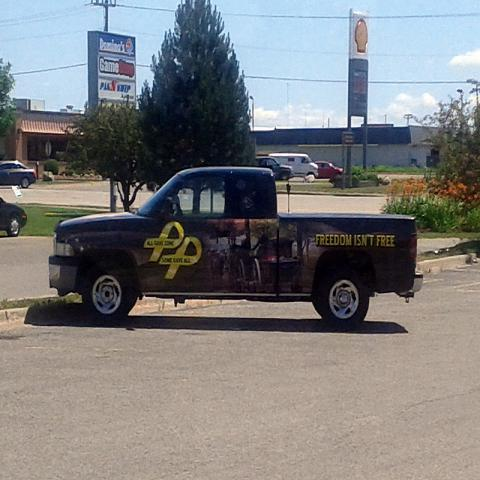car: (49, 168, 422, 321), (270, 153, 318, 182), (0, 158, 38, 190), (0, 195, 27, 237), (255, 154, 294, 181), (316, 162, 344, 179)
truck: (47, 162, 424, 328)
